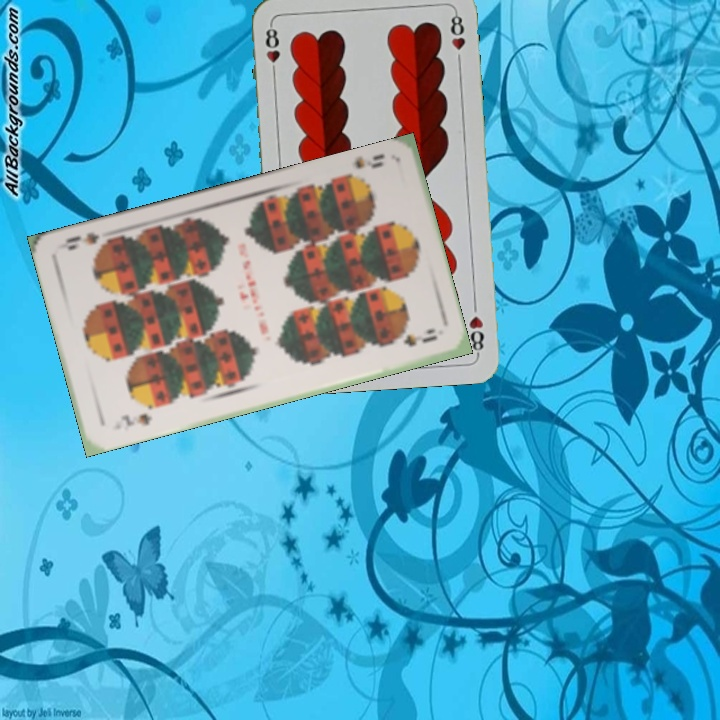H8: (261, 21, 283, 80), (465, 312, 487, 357)
S9: (337, 150, 387, 182), (117, 409, 155, 429)
